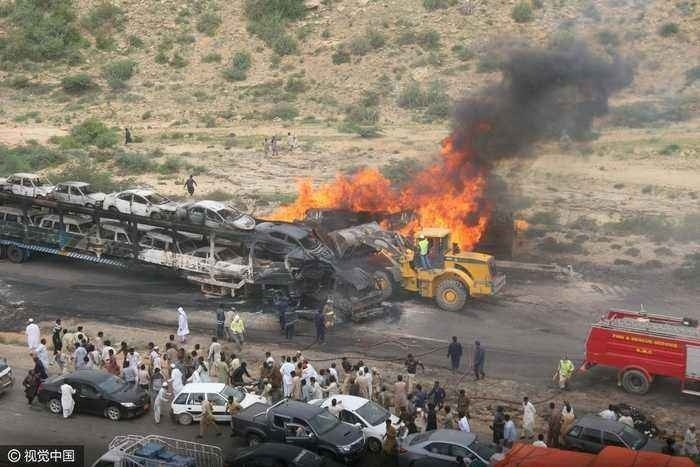fire: (264, 145, 494, 257)
